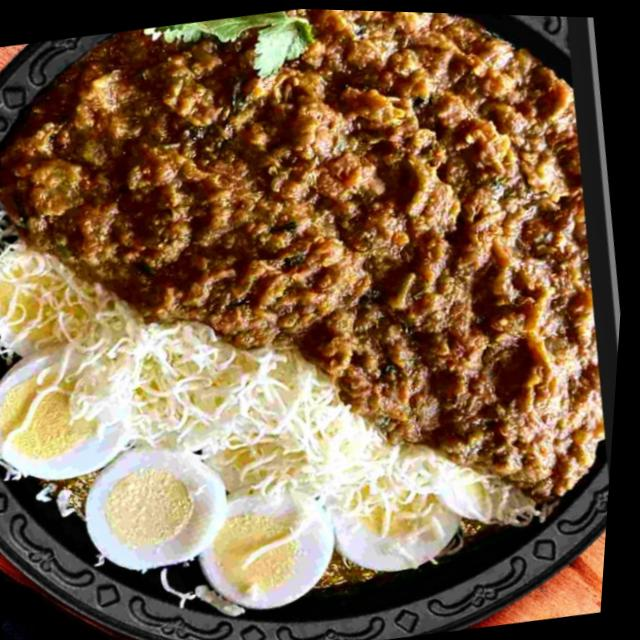EGG: (0, 345, 462, 611)
IDIYAPPAM: (138, 329, 544, 523)
